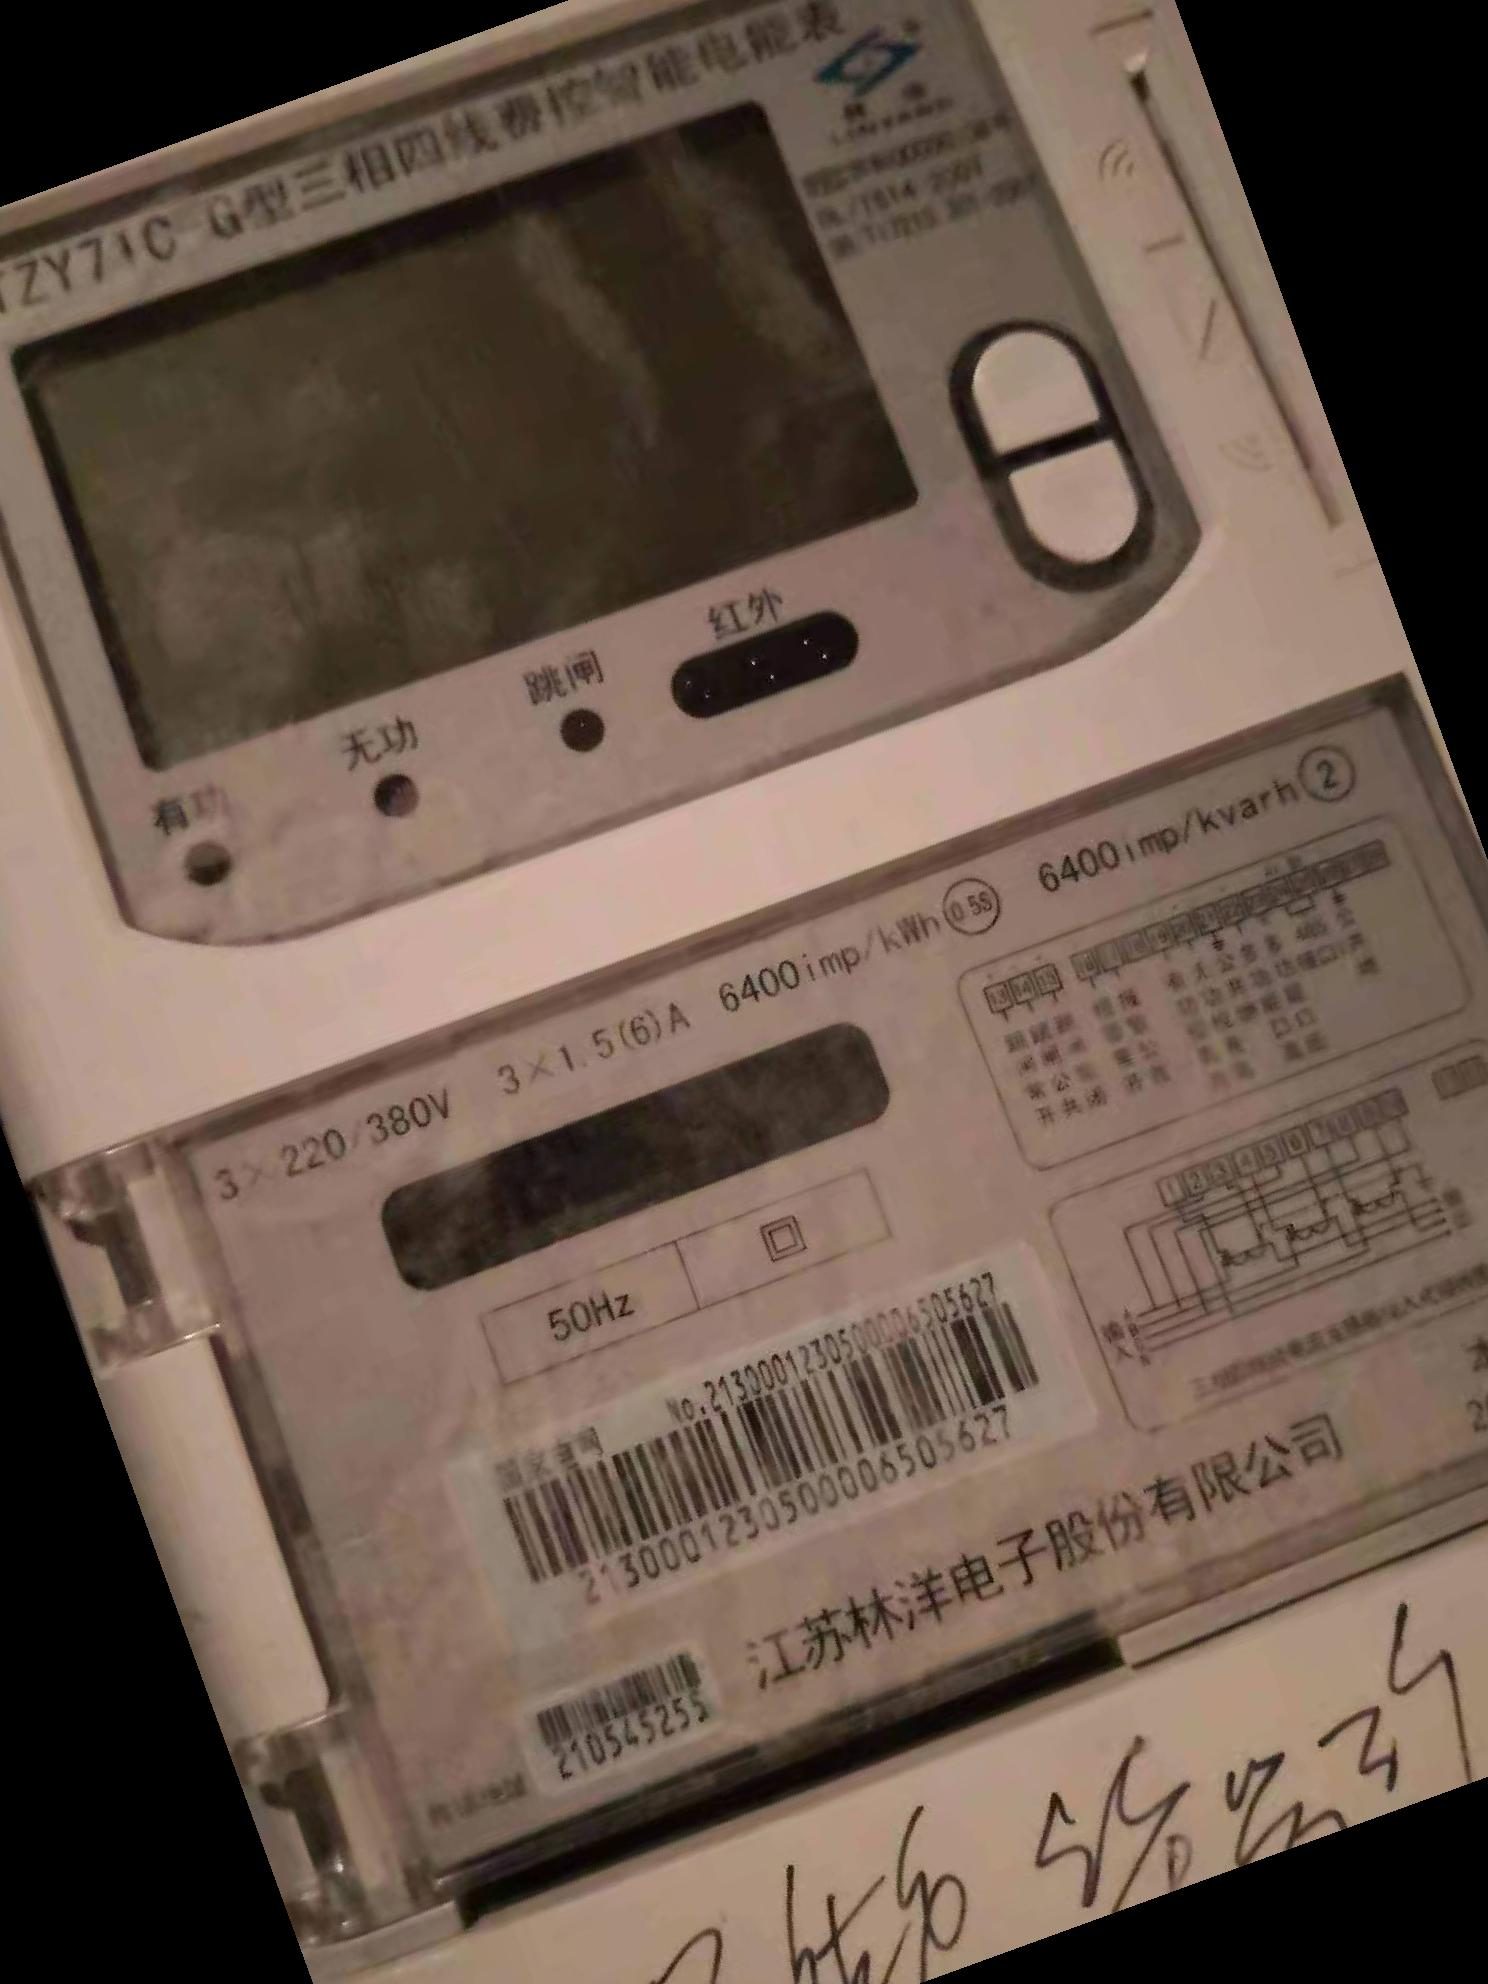digital: (9, 2, 1488, 1964)
